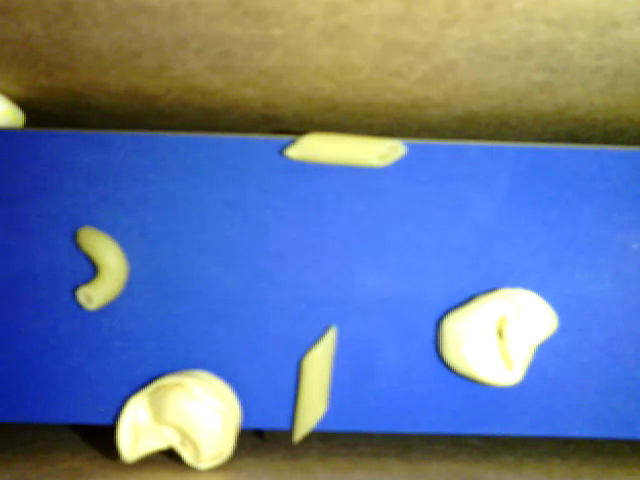elbow: (75, 223, 130, 311)
penne: (292, 322, 337, 443), (285, 131, 408, 168)
tortellini: (116, 368, 246, 470), (436, 287, 559, 388)
